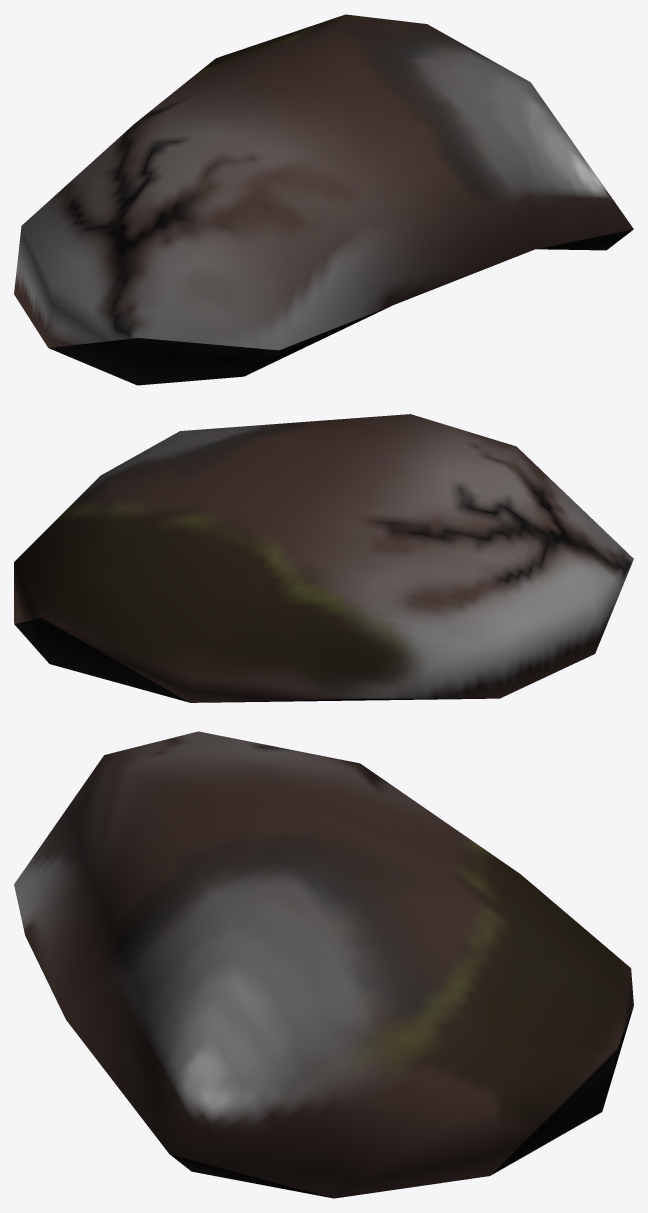
File: SM_RockLagoon_03.fbx
The picture shows the model from 3 angles, top to bottom: view 1: azimuth 30°, elevation 25°; view 2: azimuth 150°, elevation 25°; view 3: azimuth 270°, elevation 25°; orthographic projection. The views are drawn at different scales.
Visible parts, largest first — view 1: Esfera.010; view 2: Esfera.010; view 3: Esfera.010.
Boxes of the visible parts, x1,y1,x2,y2 form: Esfera.010: (14, 14, 633, 385); Esfera.010: (14, 414, 633, 702); Esfera.010: (14, 731, 633, 1198).
Bounding box in the file's own units: 2.37 × 0.8245 × 1.93.
1 material, 1 textured.
